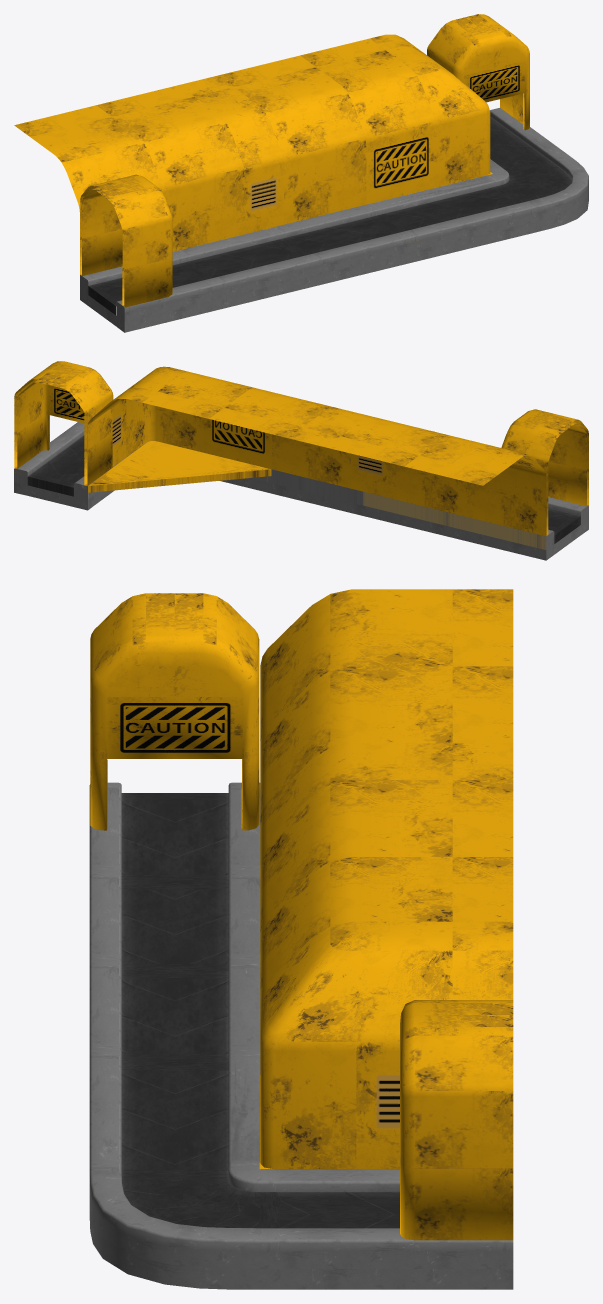
The model's file is Conveyer1.fbx.
3 renders of one model, top to bottom at view 1: azimuth 30°, elevation 25°; view 2: azimuth 150°, elevation 25°; view 3: azimuth 270°, elevation 25°, orthographic. The views are drawn at different scales.
Parts seen in each view (by area): view 1: Variety_low.028, Variety_low.025, Variety_low.019, Variety_low.017; view 2: Variety_low.028, Variety_low.025, Variety_low.017, Variety_low.019, Variety_low.018; view 3: Variety_low.028, Variety_low.025, Variety_low.019, Variety_low.017.
Part boxes in pixels (<box>): Variety_low.028: <box>14,34,490,274</box>; Variety_low.025: <box>80,108,588,332</box>; Variety_low.019: <box>80,174,172,307</box>; Variety_low.017: <box>427,14,529,130</box>; Variety_low.028: <box>87,366,546,536</box>; Variety_low.025: <box>14,422,588,560</box>; Variety_low.017: <box>14,361,113,485</box>; Variety_low.019: <box>501,409,588,535</box>; Variety_low.018: <box>88,441,271,492</box>; Variety_low.028: <box>260,589,513,1169</box>; Variety_low.025: <box>89,782,513,1289</box>; Variety_low.019: <box>90,593,259,830</box>; Variety_low.017: <box>400,1000,513,1240</box>.
Bounding box in the file's own units: 1282 × 317 × 501.
